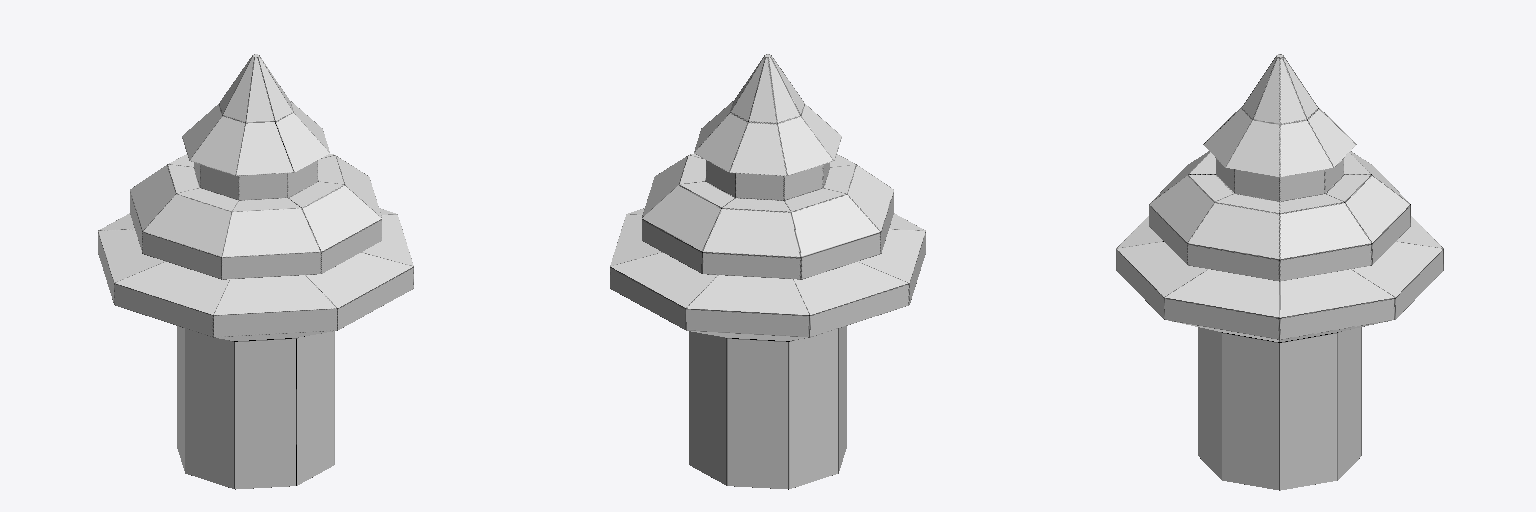
3 views of the same model, side by side, from view 1: azimuth 30°, elevation 25°; view 2: azimuth 150°, elevation 25°; view 3: azimuth 270°, elevation 25° (orthographic).
Visible parts, largest first — view 1: Tree; view 2: Tree; view 3: Tree.
Part boxes in pixels (bbox=[...]): Tree: bbox=[98, 54, 413, 489]; Tree: bbox=[610, 54, 925, 489]; Tree: bbox=[1116, 54, 1443, 490].
Size of the model in its own units: 4 by 5.4 by 4.
Materials: 1 (1 with a texture image).